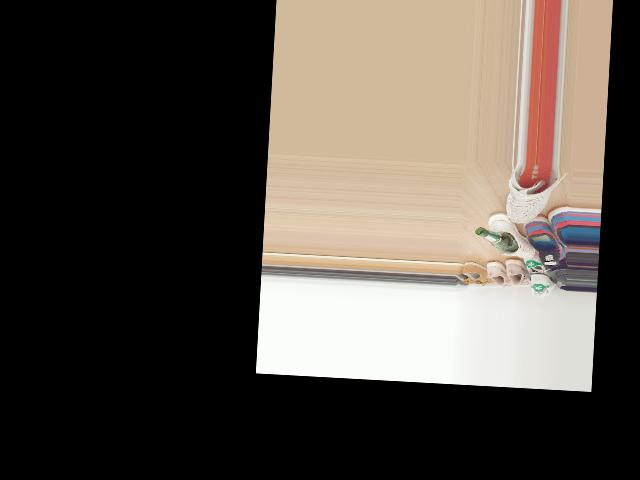beer: (474, 226, 519, 253)
